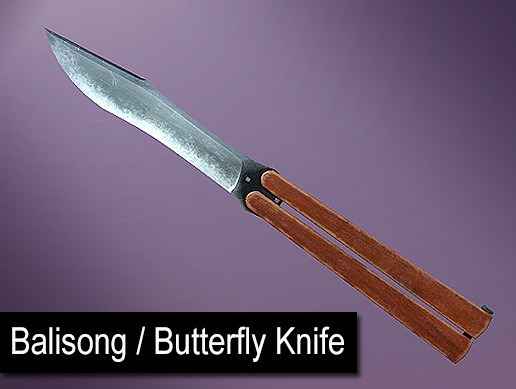knife: (41, 27, 500, 361)
